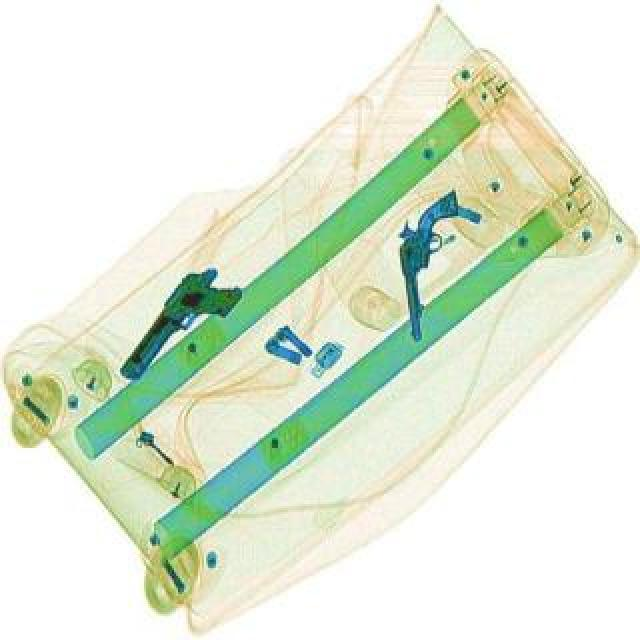gun: (118, 262, 250, 406), (392, 192, 476, 346)
